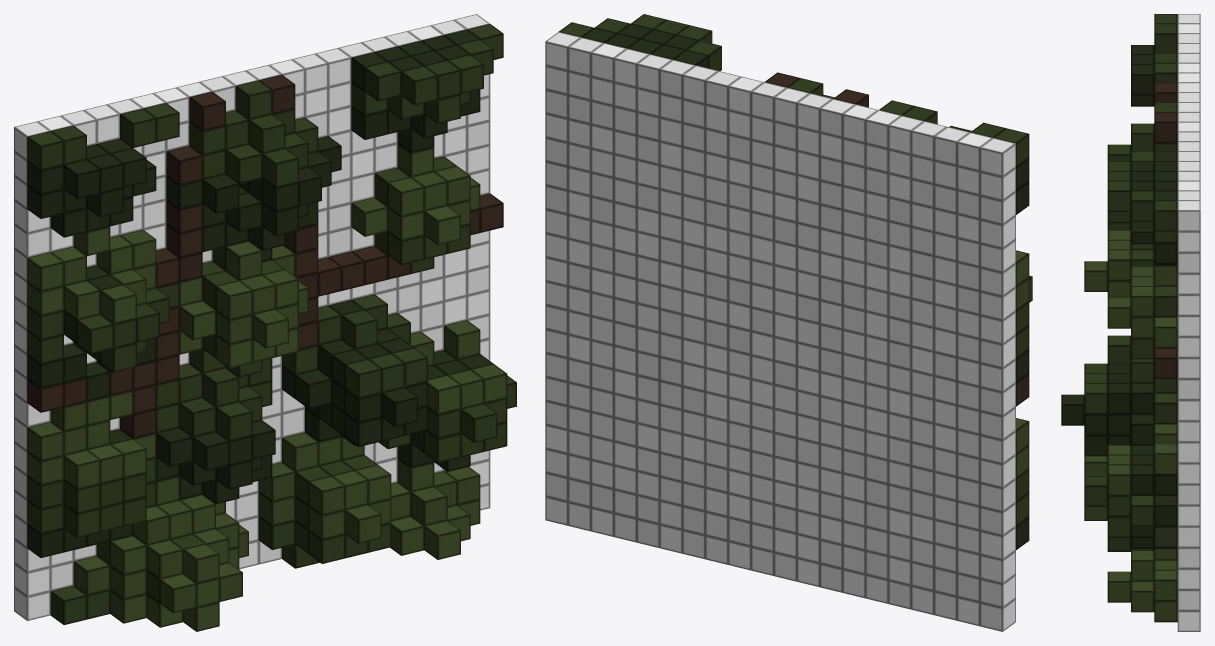
The model's file is plant_wall_tile.glb.
3 renders of one model, left to right at view 1: azimuth 30°, elevation 25°; view 2: azimuth 150°, elevation 25°; view 3: azimuth 270°, elevation 25°, orthographic. The views are drawn at different scales.
Parts seen in each view (by area): view 1: plant_wall_tile; view 2: plant_wall_tile; view 3: plant_wall_tile.
Boxes of the visible parts, bbox=[...] form: plant_wall_tile: bbox=[14, 14, 516, 631]; plant_wall_tile: bbox=[545, 14, 1032, 631]; plant_wall_tile: bbox=[1061, 14, 1200, 631].
Bounding box in the file's own units: 1 × 1 × 0.3.
5 materials, 5 textured.
